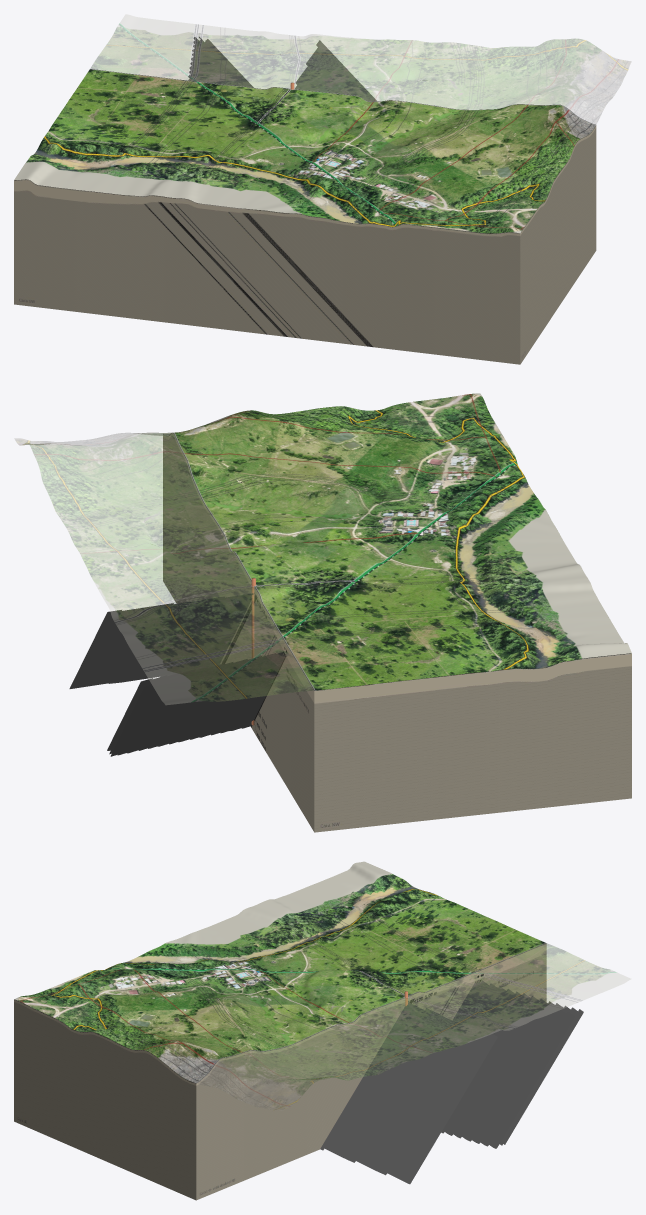
The model's file is plano_relieve.glb.
3 views of the same model, one above another, from view 1: azimuth 30°, elevation 25°; view 2: azimuth 150°, elevation 25°; view 3: azimuth 270°, elevation 25° (orthographic). The views are drawn at different scales.
Visible parts, largest first — view 1: n3, n0, n1, n5, n7, n9; view 2: n0, n4, n1, n2, n8, n14, n10; view 3: n0, n2, n1, n5, n7, n9, n11, n13.
Part boxes in pixels (bbox=[...]): n3: bbox=[14, 179, 520, 364]; n0: bbox=[14, 69, 595, 233]; n1: bbox=[90, 14, 631, 123]; n5: bbox=[520, 125, 596, 364]; n7: bbox=[294, 40, 376, 101]; n9: bbox=[196, 39, 253, 87]; n0: bbox=[163, 393, 631, 690]; n4: bbox=[314, 653, 631, 832]; n1: bbox=[14, 432, 313, 704]; n2: bbox=[163, 432, 314, 831]; n8: bbox=[70, 594, 253, 688]; n14: bbox=[111, 657, 284, 756]; n10: bbox=[107, 653, 282, 750]; n0: bbox=[14, 861, 545, 1082]; n2: bbox=[196, 943, 546, 1200]; n1: bbox=[197, 943, 630, 1110]; n5: bbox=[14, 999, 196, 1200]; n7: bbox=[320, 1002, 497, 1183]; n9: bbox=[441, 983, 574, 1148]; n11: bbox=[477, 981, 580, 1144]; n13: bbox=[479, 980, 583, 1144].
Size of the model in its own units: 0.7554 by 0.1914 by 0.7577.
Materials: 16 (6 with a texture image).
